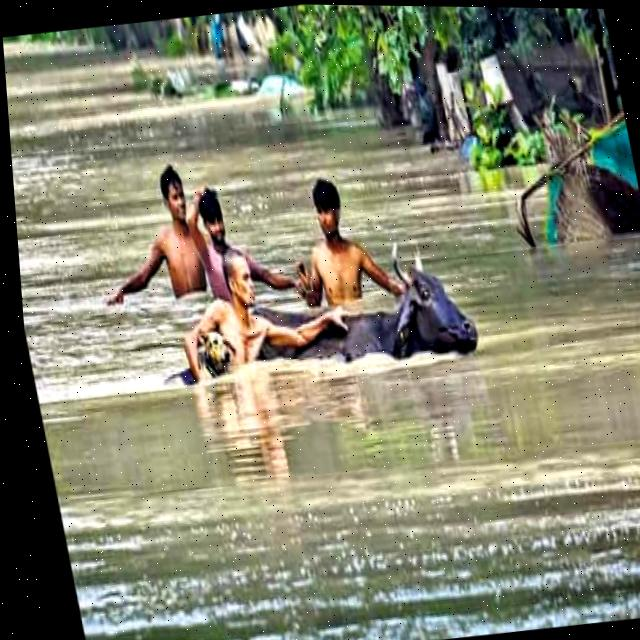civilian: (163, 234, 369, 390), (77, 159, 229, 329), (271, 167, 413, 326), (186, 173, 311, 305)
cow: (238, 223, 498, 391)
dog: (154, 323, 251, 396)
